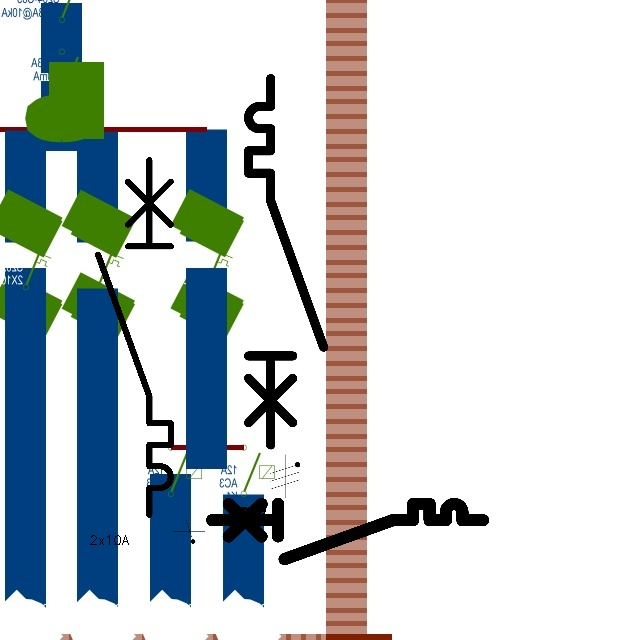interruptor_termomagnetico: (239, 69, 333, 455), (89, 151, 180, 524), (205, 497, 489, 566)
